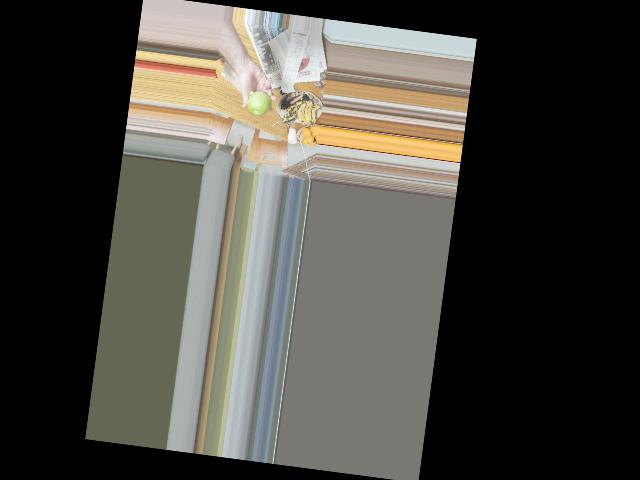apple: (247, 88, 270, 116)
